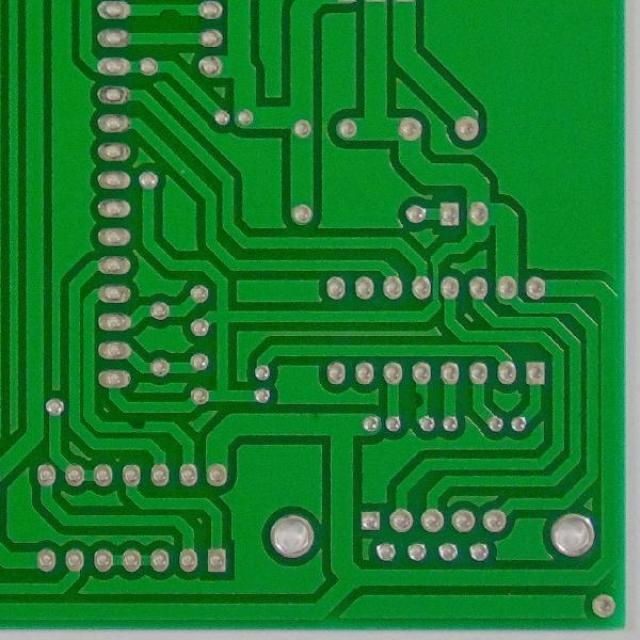mouse_bite: (157, 1, 184, 28), (410, 392, 433, 413), (127, 417, 149, 437)
